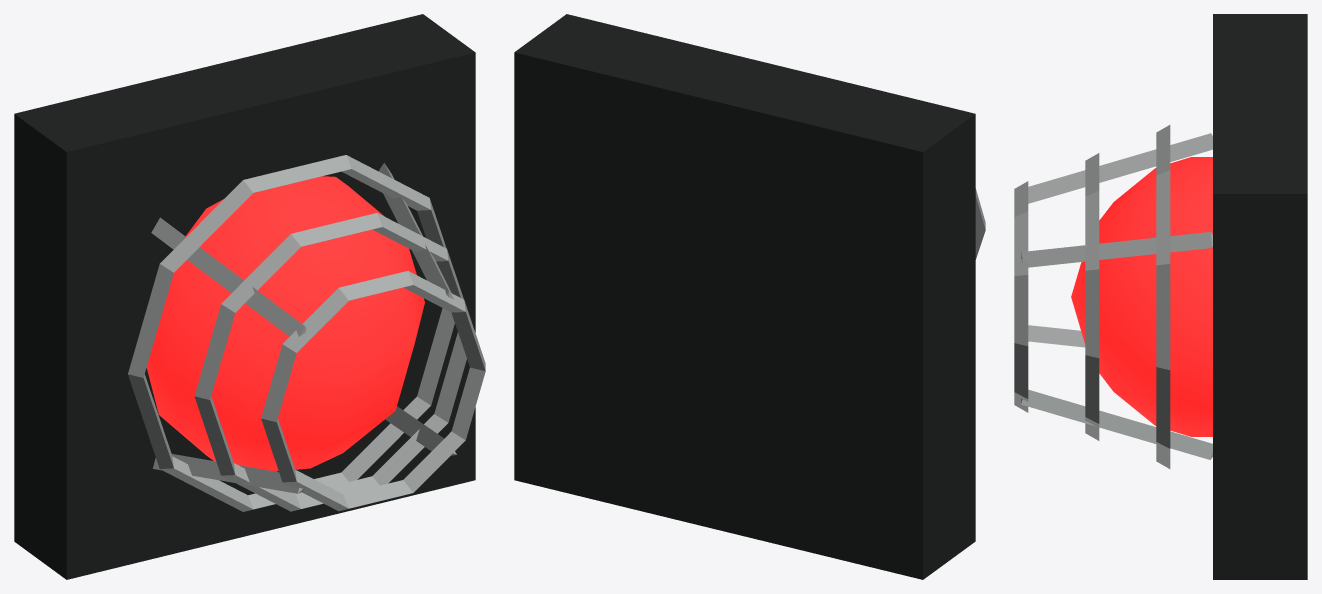
The model's file is emergency_light.glb.
3 renders of one model, left to right at view 1: azimuth 30°, elevation 25°; view 2: azimuth 150°, elevation 25°; view 3: azimuth 270°, elevation 25°, orthographic. The views are drawn at different scales.
Parts seen in each view (by area): view 1: emergency_light, bulb; view 2: emergency_light; view 3: emergency_light, bulb.
Part boxes in pixels (bbox=[...]): emergency_light: bbox=[14, 14, 485, 579]; bulb: bbox=[146, 176, 424, 471]; emergency_light: bbox=[514, 14, 985, 579]; emergency_light: bbox=[1014, 14, 1307, 579]; bulb: bbox=[1071, 157, 1212, 436].
Bounding box in the file's own units: 0.18 × 0.18 × 0.124.
